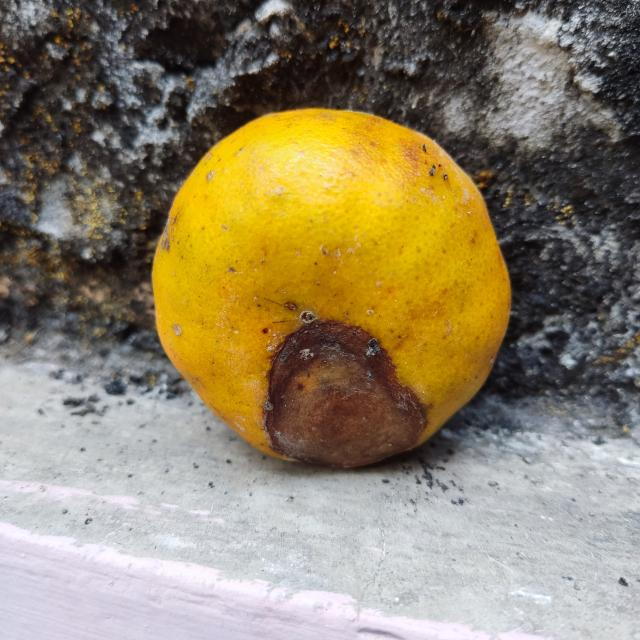orange: (152, 104, 512, 470)
